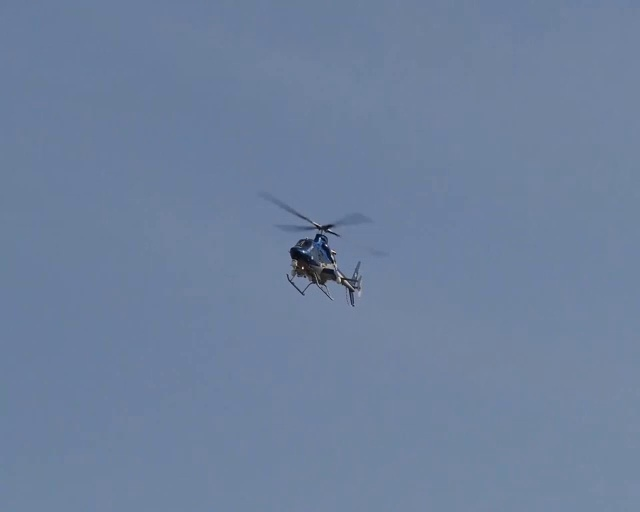HELICOPTER: (256, 188, 383, 307)
